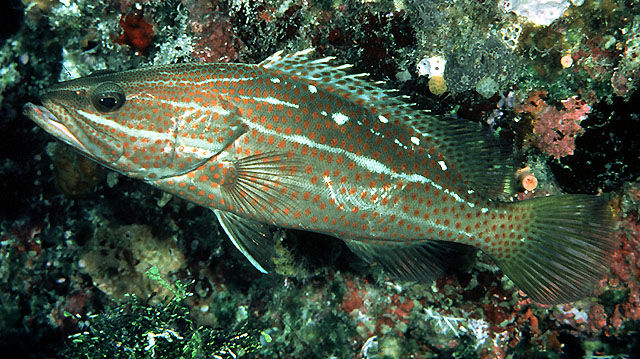fish: (26, 46, 614, 306)
